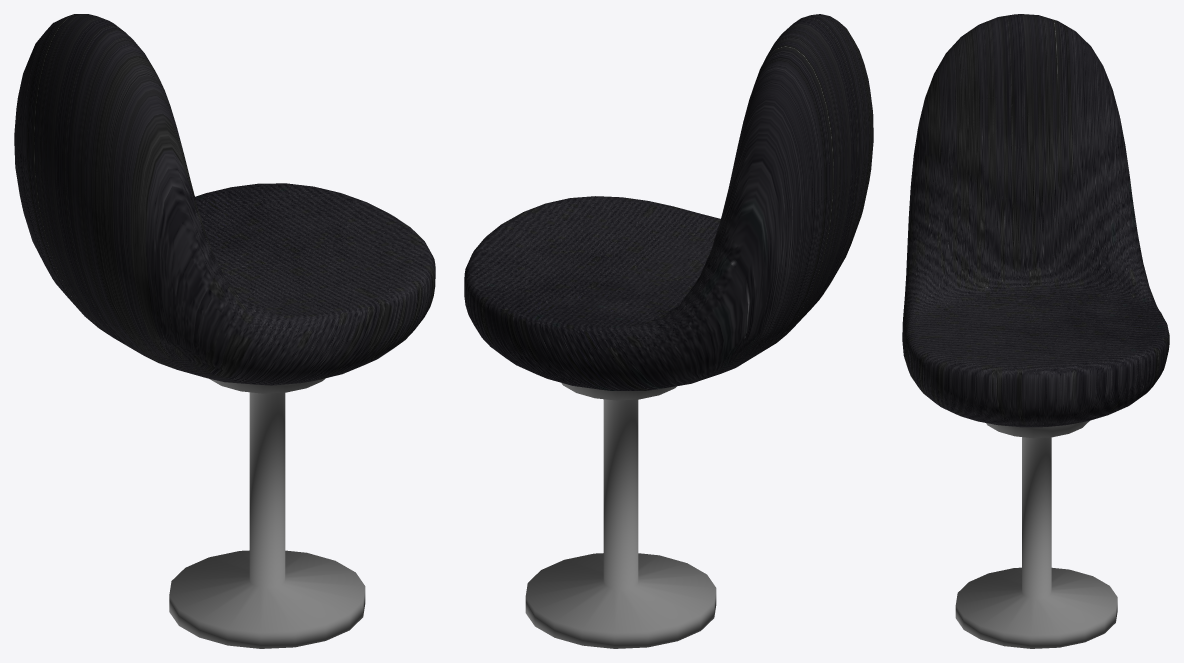
The model's file is Silla.fbx.
3 views of the same model, side by side, from view 1: azimuth 30°, elevation 25°; view 2: azimuth 150°, elevation 25°; view 3: azimuth 270°, elevation 25° (orthographic). The views are drawn at different scales.
Visible parts, largest first — view 1: Circle.001; view 2: Circle.001; view 3: Circle.001.
Boxes of the visible parts, bbox=[...] form: Circle.001: bbox=[14, 14, 435, 648]; Circle.001: bbox=[464, 14, 873, 648]; Circle.001: bbox=[902, 14, 1169, 648].
Bounding box in the file's own units: 3.34 × 5.6 × 2.58.
Materials: 2 (2 with a texture image).
